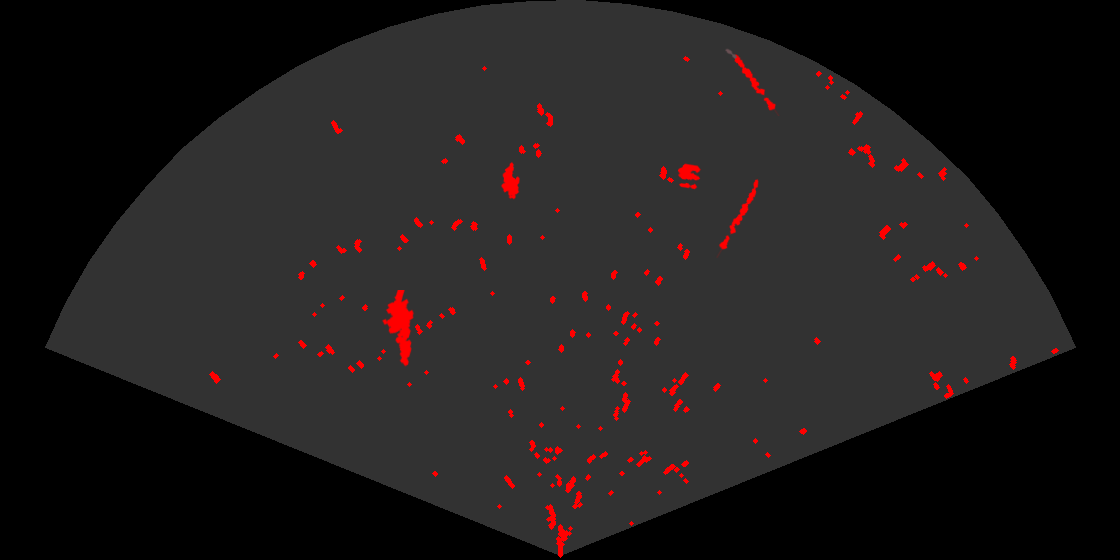AUV: (499, 160, 521, 201)
ball: (676, 162, 703, 191)
chain: (724, 48, 781, 116), (715, 177, 760, 258)
frogman: (380, 290, 416, 368)
